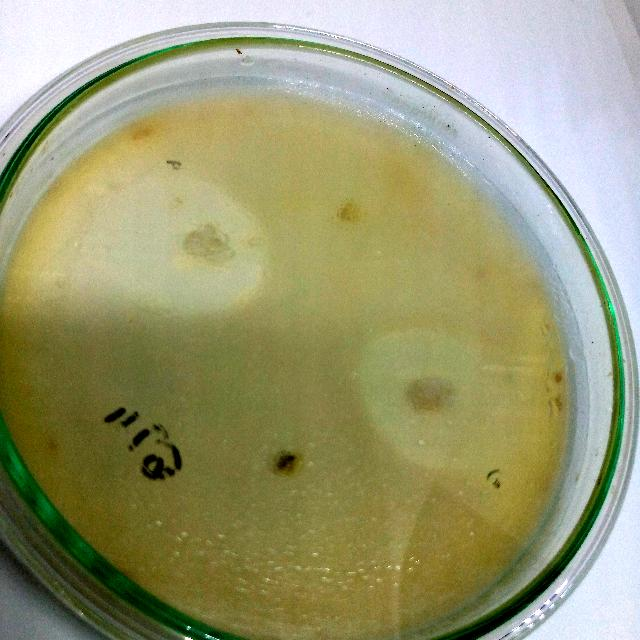colony: (401, 362, 452, 426), (178, 225, 238, 269), (269, 446, 309, 482), (332, 196, 364, 232)
